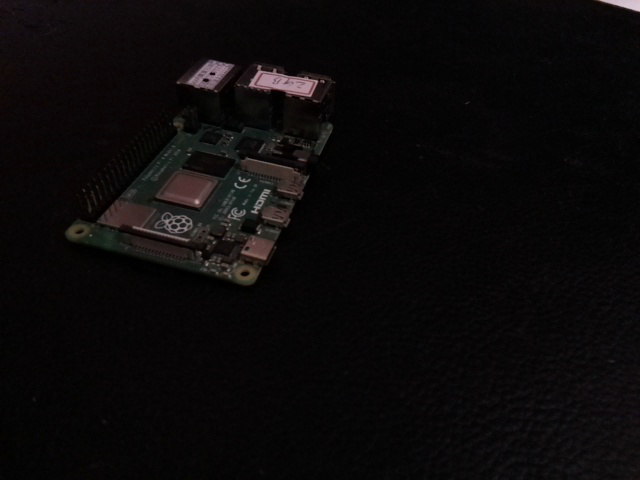pi4: (49, 21, 340, 312)
